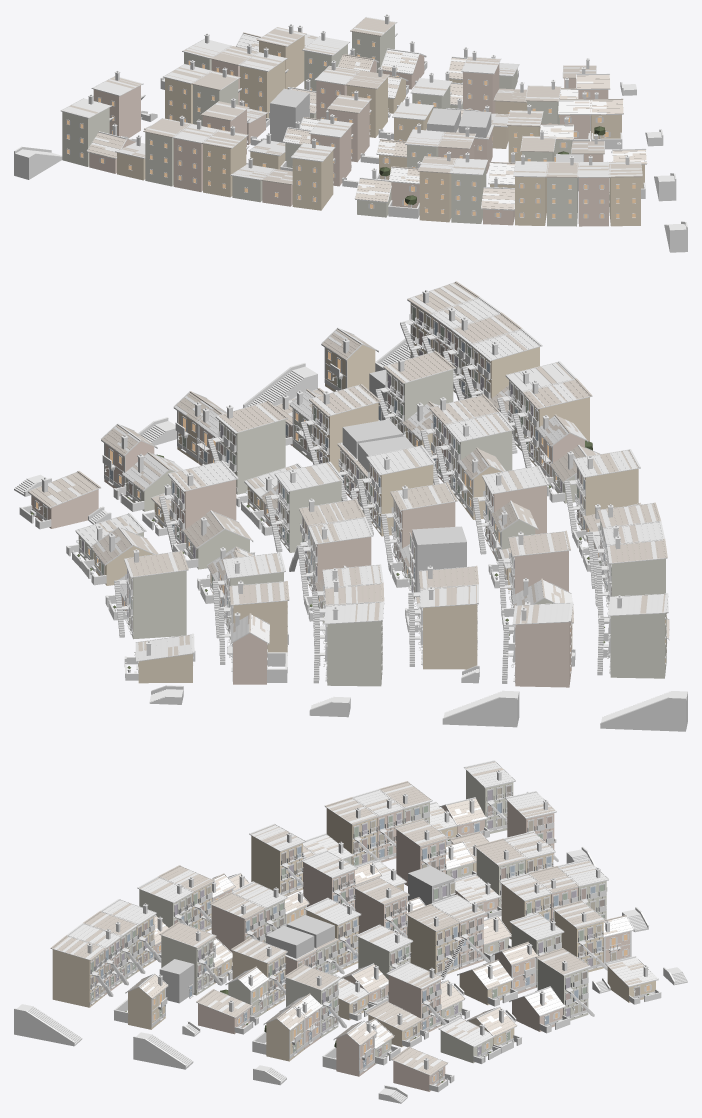
The model's file is bld_moradas_SO.glb.
The picture shows the model from 3 angles, top to bottom: view 1: azimuth 30°, elevation 25°; view 2: azimuth 150°, elevation 25°; view 3: azimuth 270°, elevation 25°; orthographic projection. The views are drawn at different scales.
Visible parts, largest first — view 1: Morada_SO_063_Body, Morada_SO_060_Body, Morada_SO_055_Body, Morada_SO_019_Body, Morada_SO_067_Body, Morada_SO_066_Body, Morada_SO_072_Body, Morada_SO_069_Body, Morada_SO_041_Body, Morada_SO_070_Body, Morada_SO_071_Body, Morada_SO_032_InteriorVolume (+91 smaller); view 2: Morada_SO_041_Body, Morada_SO_055_Body, Morada_SO_002_Body, Morada_SO_017_Body, Morada_SO_029_Body, Morada_SO_026_Body, Morada_SO_013_Body, Morada_SO_063_Body, STAIRS_Terrace_Lateral_Morada_SW_20, Morada_SO_058_Body, Morada_SO_007_Body, Morada_SO_023_Body (+82 smaller); view 3: Morada_SO_072_Body, Morada_SO_022_Body, Morada_SO_063_Body, Morada_SO_013_Body, STAIRS_Terrace_Lateral_Morada_SW_24, Morada_SO_028_Body, Morada_SO_016_Body, Morada_SO_054_Body, Morada_SO_002_Body, Morada_SO_052_Body, Morada_SO_060_Body, Morada_SO_050_Body (+88 smaller).
Part boxes in pixels (left/top/right/bottom): Morada_SO_063_Body: left=292, top=150, right=335, bottom=210; Morada_SO_060_Body: left=203, top=137, right=249, bottom=197; Morada_SO_055_Body: left=62, top=107, right=113, bottom=166; Morada_SO_019_Body: left=240, top=60, right=288, bottom=118; Morada_SO_067_Body: left=451, top=166, right=486, bottom=223; Morada_SO_066_Body: left=419, top=171, right=451, bottom=222; Morada_SO_072_Body: left=609, top=177, right=640, bottom=226; Morada_SO_069_Body: left=515, top=176, right=546, bottom=225; Morada_SO_041_Body: left=93, top=85, right=145, bottom=138; Morada_SO_070_Body: left=547, top=177, right=577, bottom=226; Morada_SO_071_Body: left=578, top=177, right=608, bottom=226; Morada_SO_032_InteriorVolume: left=270, top=88, right=309, bottom=142; Morada_SO_041_Body: left=502, top=619, right=571, bottom=687; Morada_SO_055_Body: left=597, top=613, right=666, bottom=678; Morada_SO_002_Body: left=114, top=570, right=186, bottom=639; Morada_SO_017_Body: left=313, top=621, right=382, bottom=686; Morada_SO_029_Body: left=409, top=604, right=477, bottom=669; Morada_SO_026_Body: left=207, top=419, right=285, bottom=494; Morada_SO_013_Body: left=159, top=479, right=236, bottom=551; Morada_SO_063_Body: left=564, top=469, right=638, bottom=537; STAIRS_Terrace_Lateral_Morada_SW_20: left=600, top=691, right=687, bottom=731; Morada_SO_058_Body: left=596, top=559, right=665, bottom=617; Morada_SO_007_Body: left=227, top=633, right=287, bottom=684; Morada_SO_023_Body: left=265, top=481, right=341, bottom=552; Morada_SO_072_Body: left=52, top=949, right=113, bottom=1007; Morada_SO_022_Body: left=407, top=916, right=465, bottom=979; Morada_SO_063_Body: left=251, top=836, right=303, bottom=895; Morada_SO_013_Body: left=388, top=975, right=447, bottom=1031; STAIRS_Terrace_Lateral_Morada_SW_24: left=14, top=1004, right=82, bottom=1046; Morada_SO_028_Body: left=252, top=1019, right=304, bottom=1061; Morada_SO_016_Body: left=322, top=1034, right=374, bottom=1076; Morada_SO_054_Body: left=114, top=987, right=167, bottom=1029; Morada_SO_002_Body: left=537, top=959, right=594, bottom=1020; Morada_SO_052_Body: left=161, top=935, right=222, bottom=995; Morada_SO_060_Body: left=326, top=808, right=382, bottom=866; Morada_SO_050_Body: left=211, top=905, right=264, bottom=961.
Size of what is drawn, in the model's own units: 128 by 17.3 by 128.
Materials: 23 (19 with a texture image).
